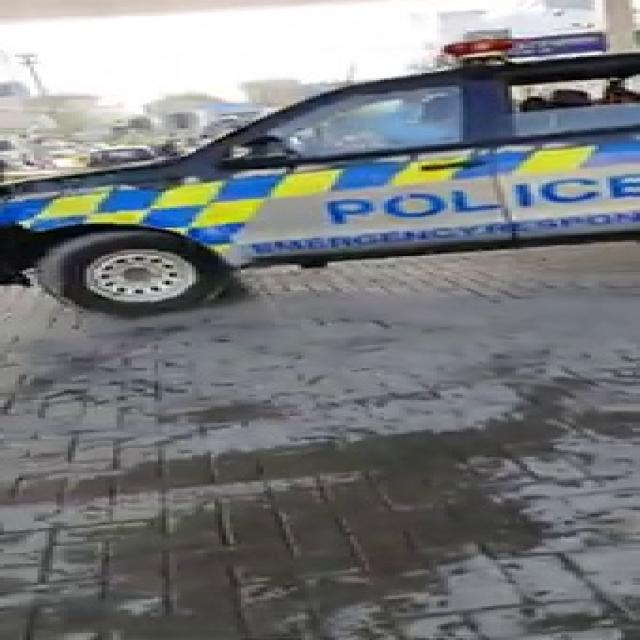police: (0, 0, 640, 282)
